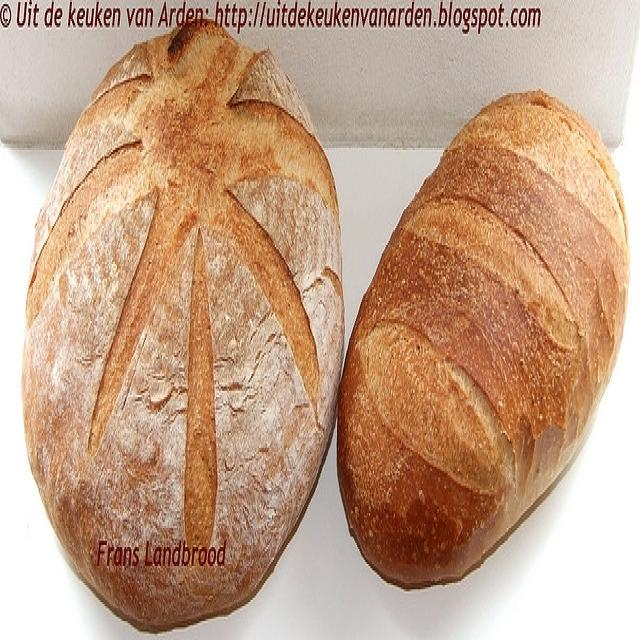面包点心: (16, 6, 628, 632)
